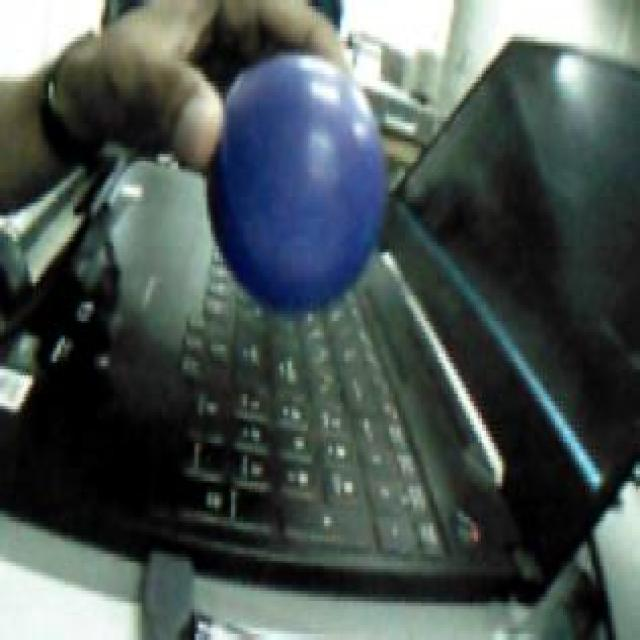BallPurple: (207, 50, 383, 319)
